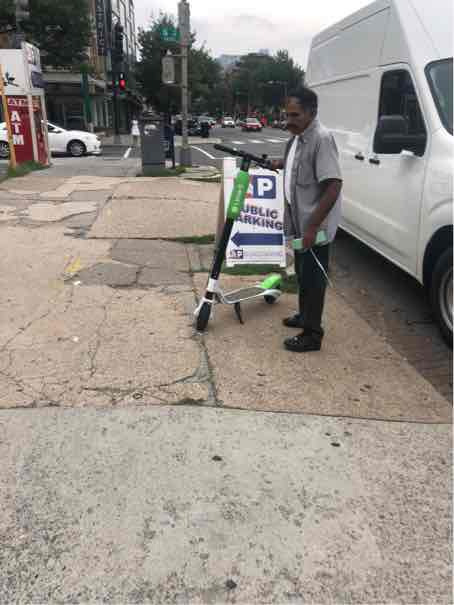scooter: (182, 153, 308, 339)
